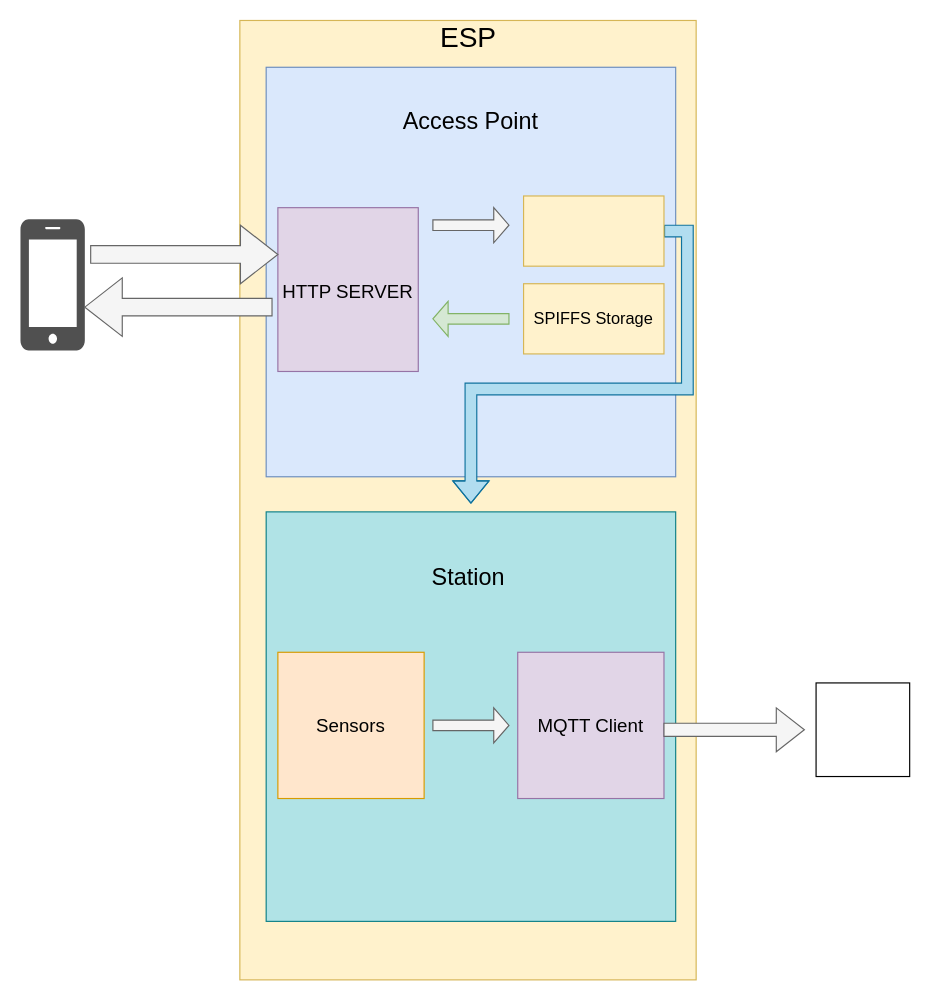
This 930x1000 diagram has some shape labels left out. The centre of each missing label's shape, as x and y in pixels:
"MQTT Broker" belongs at (862,729).
"NVS Storage" belongs at (593,230).
